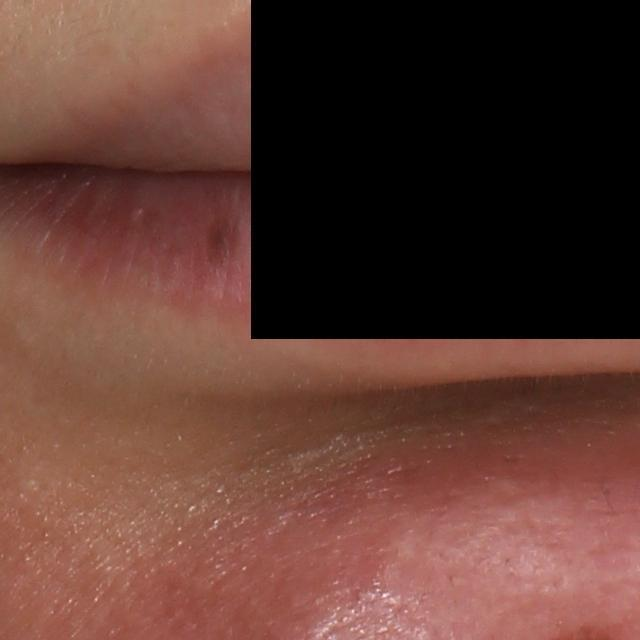nevus: (207, 219, 240, 265)
